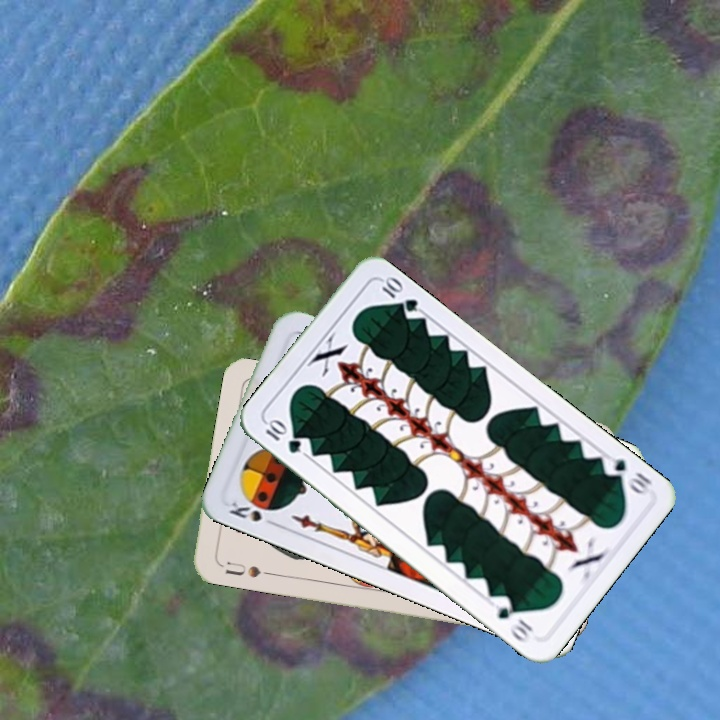G10: (598, 451, 654, 497), (261, 416, 304, 457)
SK: (225, 497, 281, 529)
SU: (221, 557, 275, 581)
